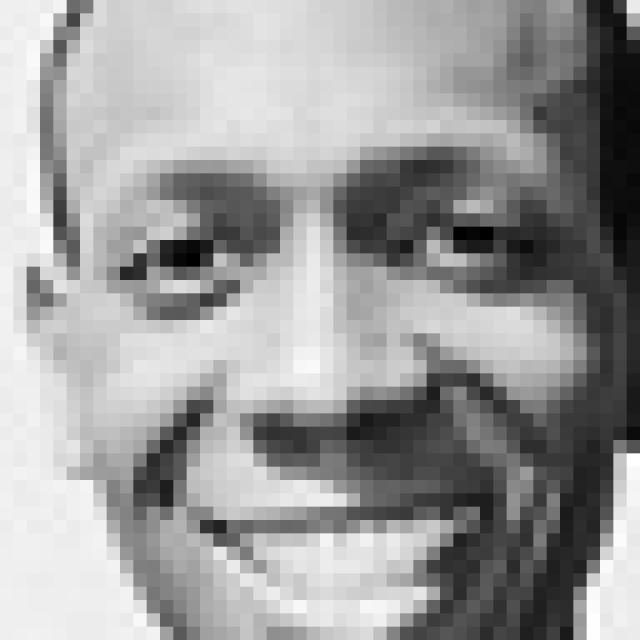happy: (100, 131, 584, 640)
